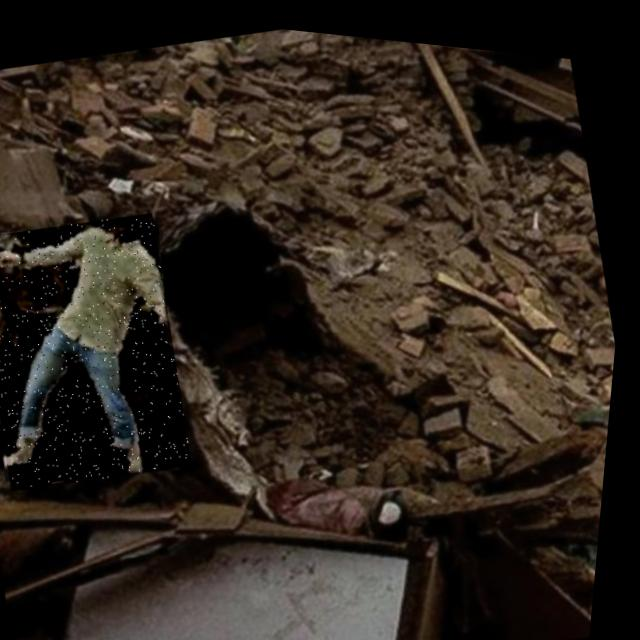Person in Rubble: (0, 195, 216, 504)
